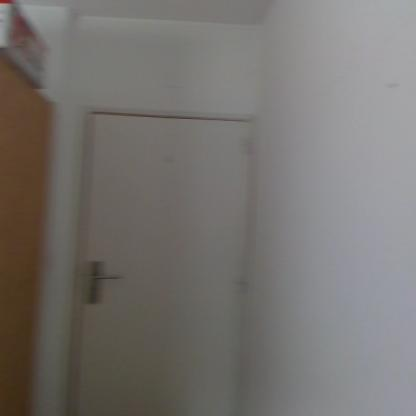closed: (60, 90, 284, 416)
